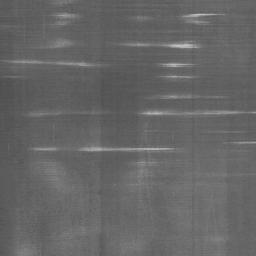Waist folding: (0, 0, 256, 82), (22, 92, 256, 146), (28, 145, 256, 196), (49, 231, 102, 240), (194, 235, 229, 246), (19, 243, 35, 252), (0, 23, 19, 29)
